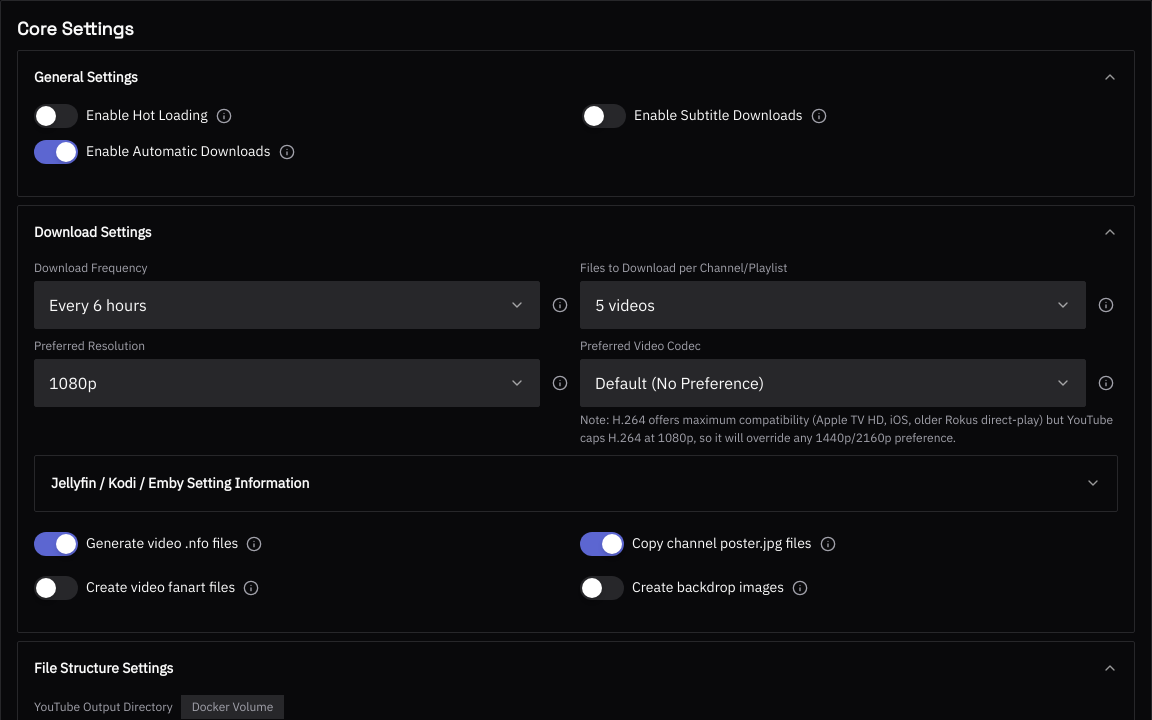
Test: CoreSettingsSection Component › Download Frequency Select › displays all frequency options
Click the button "Every 6 hours" at point(98, 305), box [34,281,540,329]
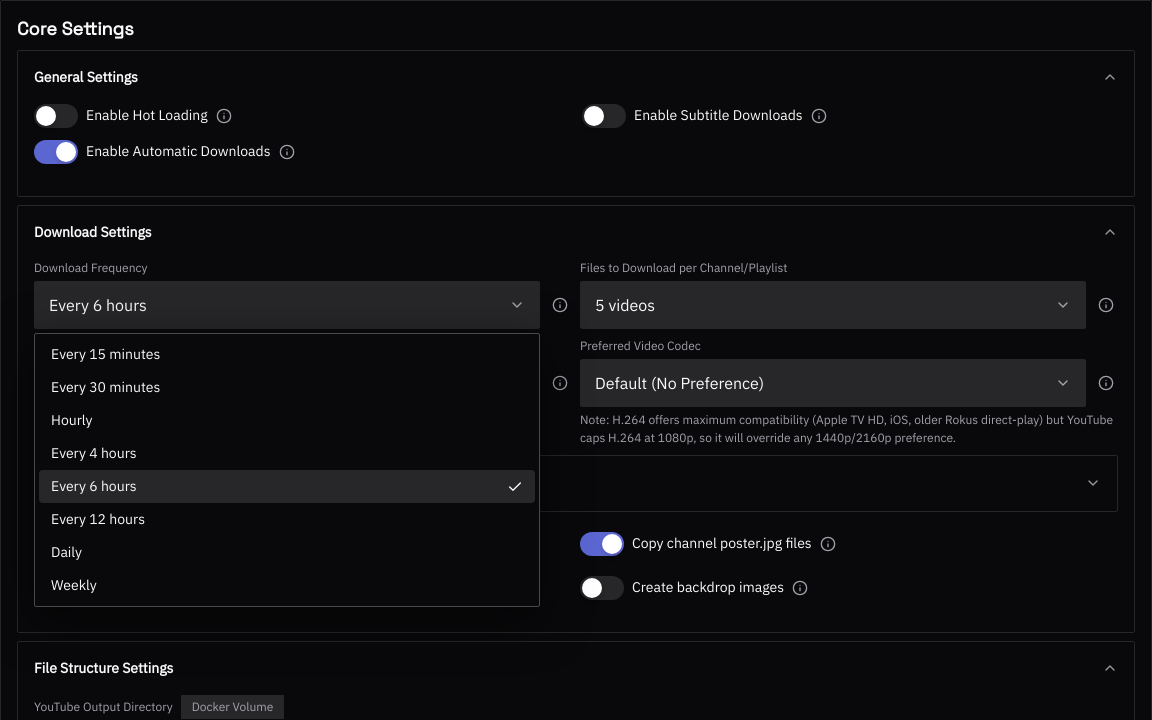
Now the option "Every 15 minutes" is shown, box [51,345,160,363]
Now the option "Every 30 minutes" is shown, box [51,378,160,396]
Now the option "Hourly" is shown, box [51,411,92,429]
